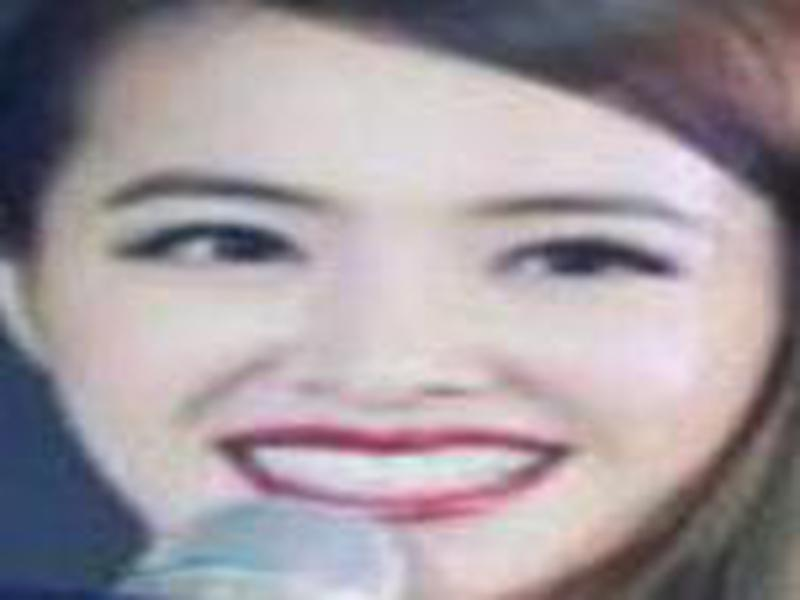without_mask: (28, 41, 764, 591)
